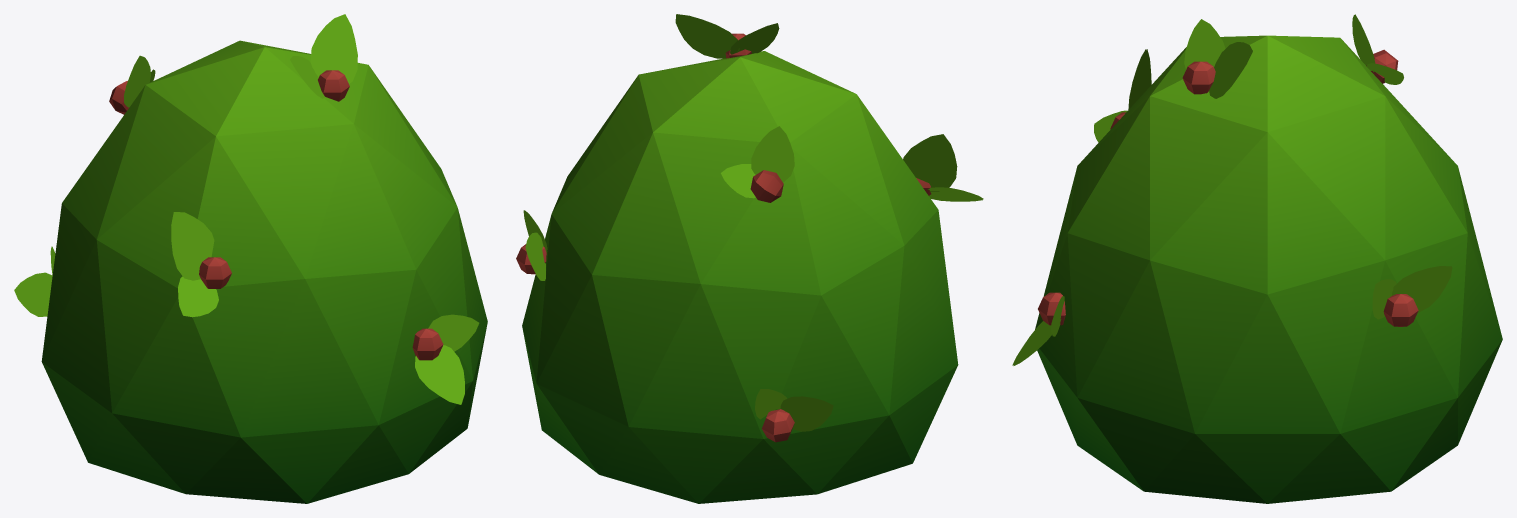
Rendered from bush_1.fbx.
The picture shows the model from 3 angles, left to right: view 1: azimuth 30°, elevation 25°; view 2: azimuth 150°, elevation 25°; view 3: azimuth 270°, elevation 25°; orthographic projection. The views are drawn at different scales.
Parts seen in each view (by area): view 1: bush_1; view 2: bush_1; view 3: bush_1.
Boxes of the visible parts, <box> form: bush_1: <box>14,14,487,503</box>; bush_1: <box>516,14,983,503</box>; bush_1: <box>1012,14,1502,503</box>.
Size of the model in its own units: 1.54 by 1.61 by 1.68.
